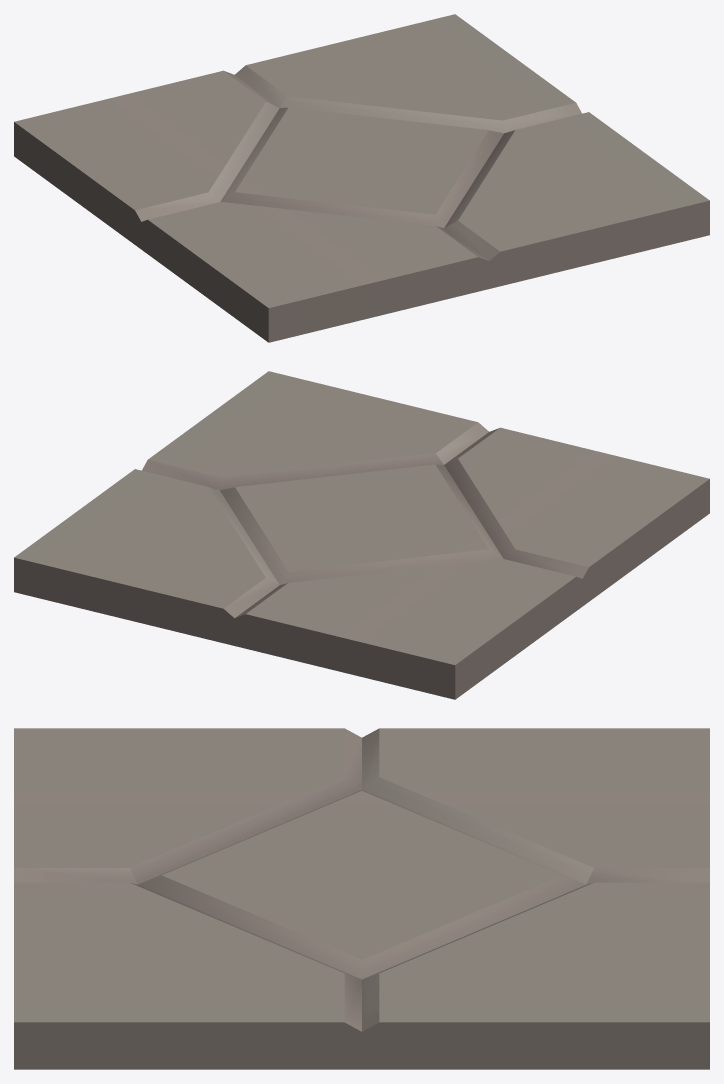
The model's file is floor-tile-small-gltf.glb.
3 views of the same model, one above another, from view 1: azimuth 30°, elevation 25°; view 2: azimuth 150°, elevation 25°; view 3: azimuth 270°, elevation 25° (orthographic). The views are drawn at different scales.
Visible parts, largest first — view 1: floor_tile_small; view 2: floor_tile_small; view 3: floor_tile_small.
Part boxes in pixels (left/top/right/bottom): floor_tile_small: left=14, top=14, right=709, bottom=342; floor_tile_small: left=14, top=371, right=709, bottom=699; floor_tile_small: left=14, top=728, right=709, bottom=1069.
Size of the model in its own units: 2 by 0.1499 by 2.
1 material, 1 textured.
